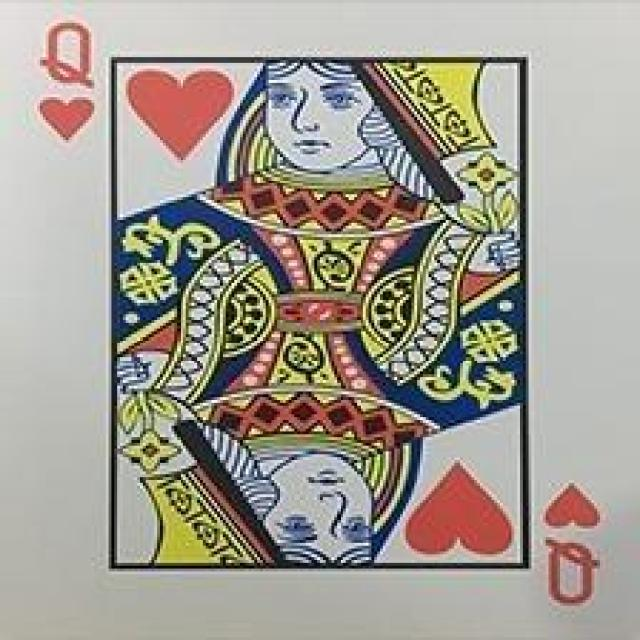Queen of hearts: (12, 6, 629, 629)
